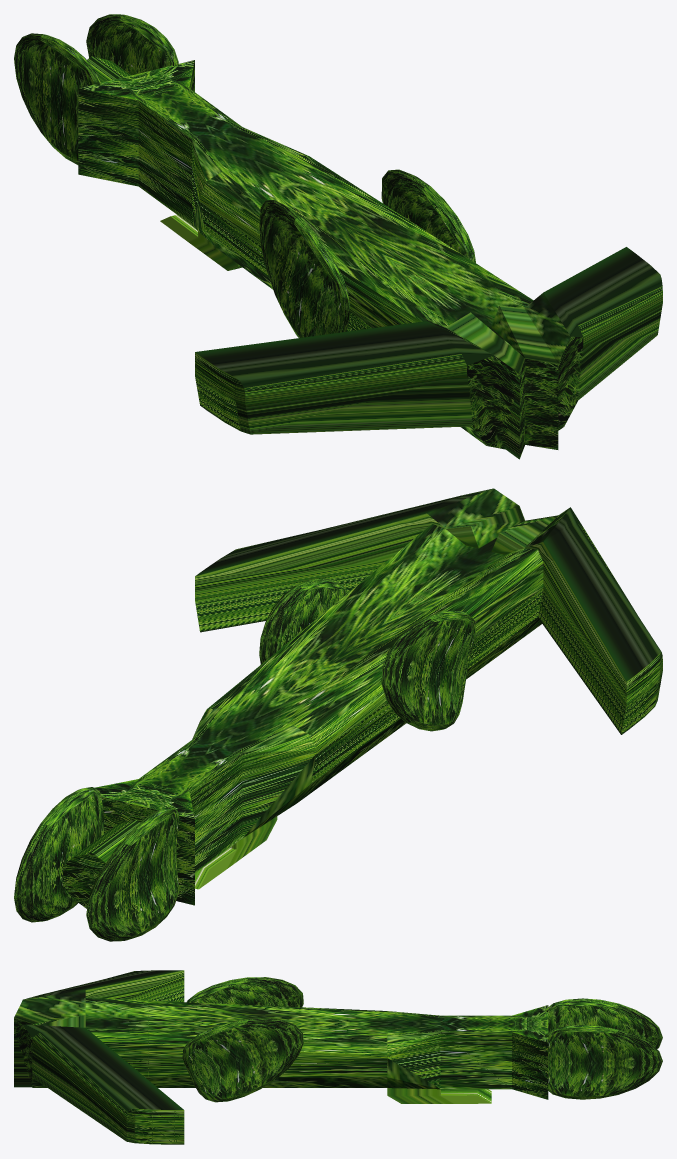
The model's file is Ballesta Planta2 1.fbx.
3 views of the same model, one above another, from view 1: azimuth 30°, elevation 25°; view 2: azimuth 150°, elevation 25°; view 3: azimuth 270°, elevation 25° (orthographic). The views are drawn at different scales.
Visible parts, largest first — view 1: Cubo; view 2: Cubo; view 3: Cubo.
Part boxes in pixels (x1,y1,x2,y2): Cubo: [14, 14, 662, 459]; Cubo: [14, 488, 662, 941]; Cubo: [14, 970, 662, 1144].
Size of the model in its own units: 741 by 247 by 1453.
1 material, 1 textured.
